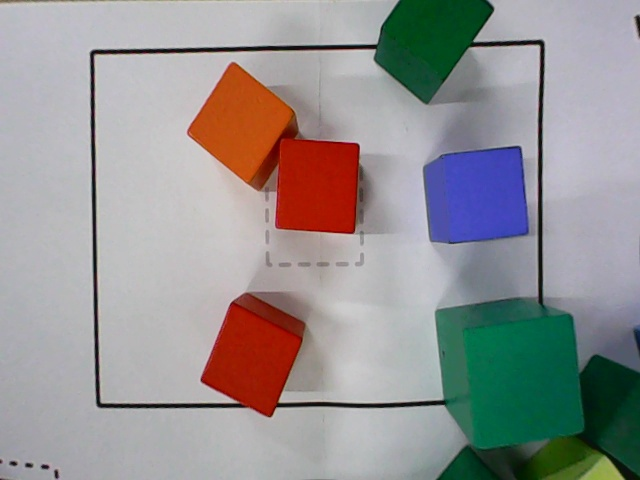upside of big cube: (463, 314, 585, 450)
upside of small cube: (185, 62, 295, 185), (201, 302, 304, 417), (379, 0, 496, 83), (441, 146, 529, 244), (275, 139, 360, 233), (597, 376, 639, 477), (581, 456, 625, 479)
